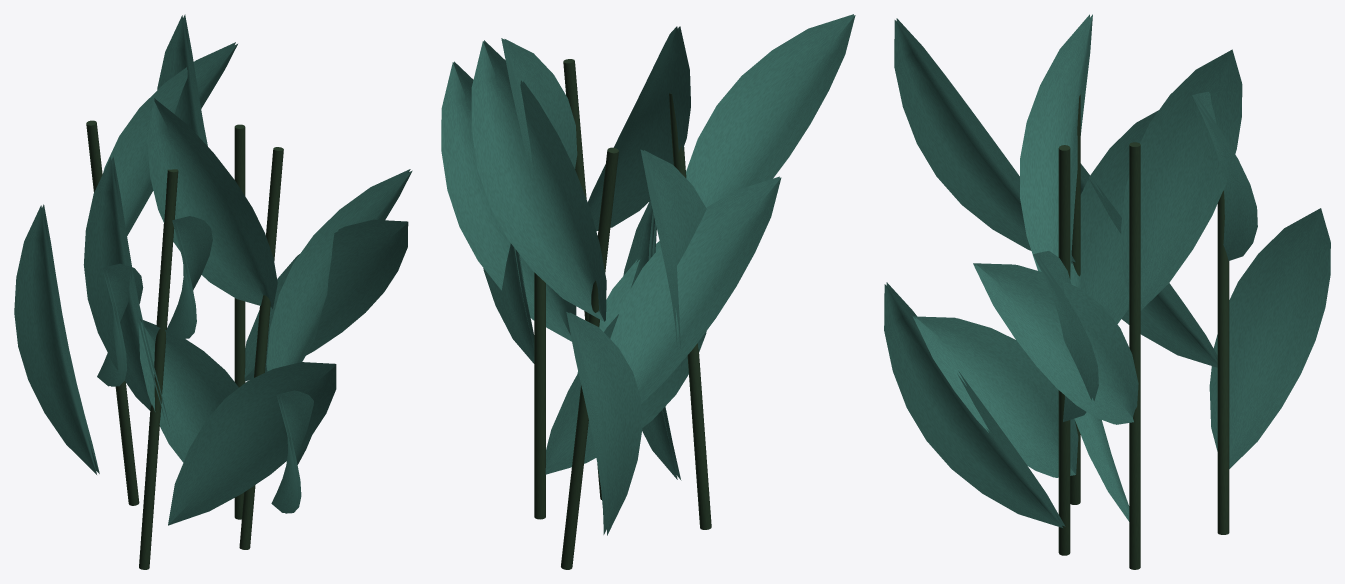
File: glow_kelp.glb
3 renders of one model, left to right at view 1: azimuth 30°, elevation 25°; view 2: azimuth 150°, elevation 25°; view 3: azimuth 270°, elevation 25°, orthographic. The views are drawn at different scales.
Visible parts, largest first — view 1: moving_stem_1, moving_stem_3, moving_stem_2, moving_stem_0; view 2: moving_stem_2, moving_stem_1, moving_stem_3, moving_stem_0; view 3: moving_stem_0, moving_stem_1, moving_stem_3, moving_stem_2.
Boxes of the visible parts, x1,y1,x2,y2 form: moving_stem_1: (83, 156, 336, 569); moving_stem_3: (147, 98, 412, 549); moving_stem_2: (14, 42, 237, 505); moving_stem_0: (138, 14, 408, 519); moving_stem_2: (471, 40, 781, 569); moving_stem_1: (623, 14, 855, 529); moving_stem_3: (441, 26, 690, 499); moving_stem_0: (483, 38, 706, 519); moving_stem_0: (973, 49, 1242, 569); moving_stem_1: (894, 18, 1158, 504); moving_stem_3: (884, 14, 1098, 555); moving_stem_2: (1080, 91, 1330, 534).
Size of the model in its own units: 0.8568 by 1.27 by 1.01.
1 material, 1 textured.
